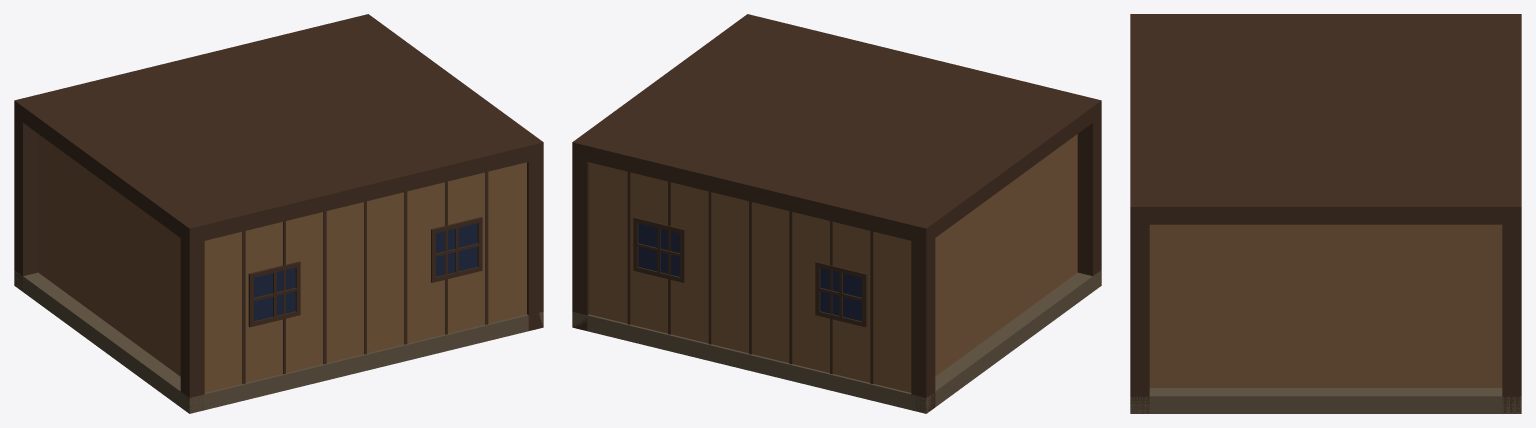
Rendered from env_house_workshop_body.glb.
The picture shows the model from 3 angles, left to right: view 1: azimuth 30°, elevation 25°; view 2: azimuth 150°, elevation 25°; view 3: azimuth 270°, elevation 25°; orthographic projection. The views are drawn at different scales.
Visible parts, largest first — view 1: ENV_House_Workshop_Body; view 2: ENV_House_Workshop_Body; view 3: ENV_House_Workshop_Body.
Part boxes in pixels (x1=…): ENV_House_Workshop_Body: x1=14, y1=14, x2=543, y2=413; ENV_House_Workshop_Body: x1=572, y1=14, x2=1101, y2=413; ENV_House_Workshop_Body: x1=1130, y1=14, x2=1521, y2=413.
Bounding box in the file's own units: 7 × 3.5 × 6.
